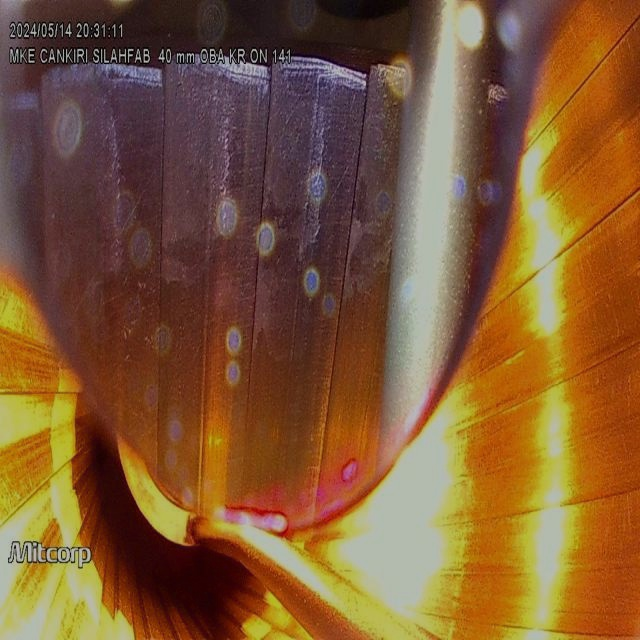hata_7.2: (64, 62, 387, 111)
hata_8.2: (24, 107, 476, 335)
